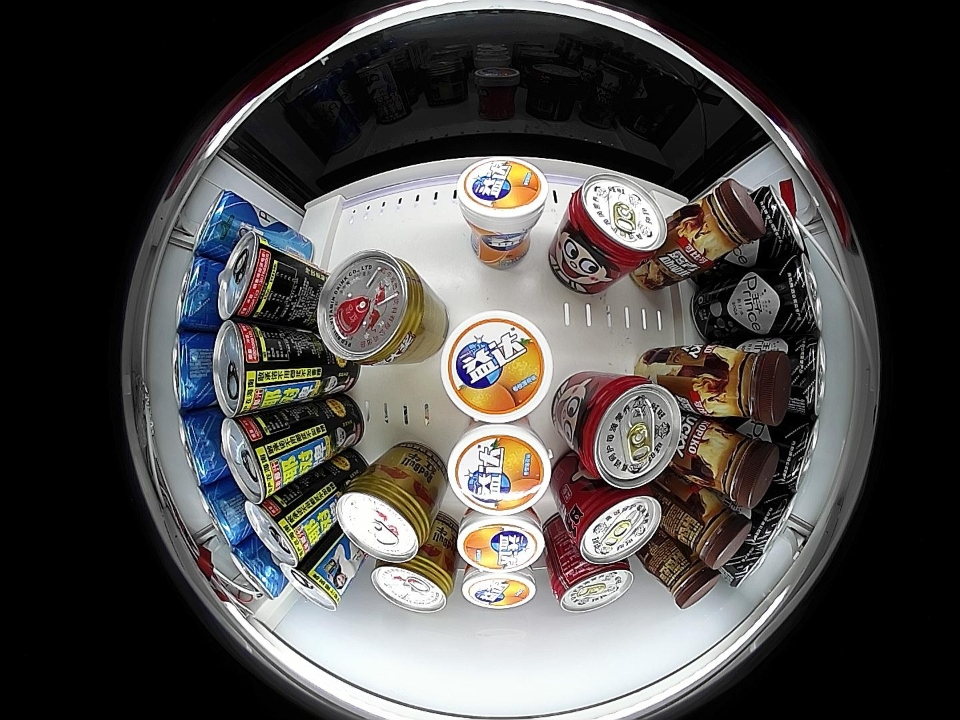hongniu: (316, 251, 430, 365)
hongniu2: (337, 472, 435, 562), (371, 553, 454, 613)
lujikafei: (690, 421, 780, 509), (679, 179, 767, 266), (697, 342, 791, 423), (675, 492, 752, 570), (653, 549, 719, 610)
qingdaowangzi-1: (772, 254, 823, 337), (754, 183, 808, 261), (772, 416, 821, 492), (786, 336, 826, 417), (745, 488, 798, 547), (721, 542, 770, 588)
qingdaowangzi-2: (191, 189, 253, 261), (178, 409, 226, 486), (197, 481, 249, 547), (176, 256, 221, 332), (229, 540, 285, 600), (173, 331, 215, 411)
wangzainiunai: (568, 374, 682, 489), (563, 173, 666, 276), (564, 481, 662, 564), (549, 551, 634, 614)
yezhi: (213, 320, 276, 416), (221, 414, 285, 503), (218, 234, 279, 321), (245, 497, 312, 567), (278, 557, 346, 612)
yida: (441, 309, 553, 423), (447, 423, 551, 515), (455, 157, 549, 233), (456, 512, 546, 573), (460, 568, 537, 610)
